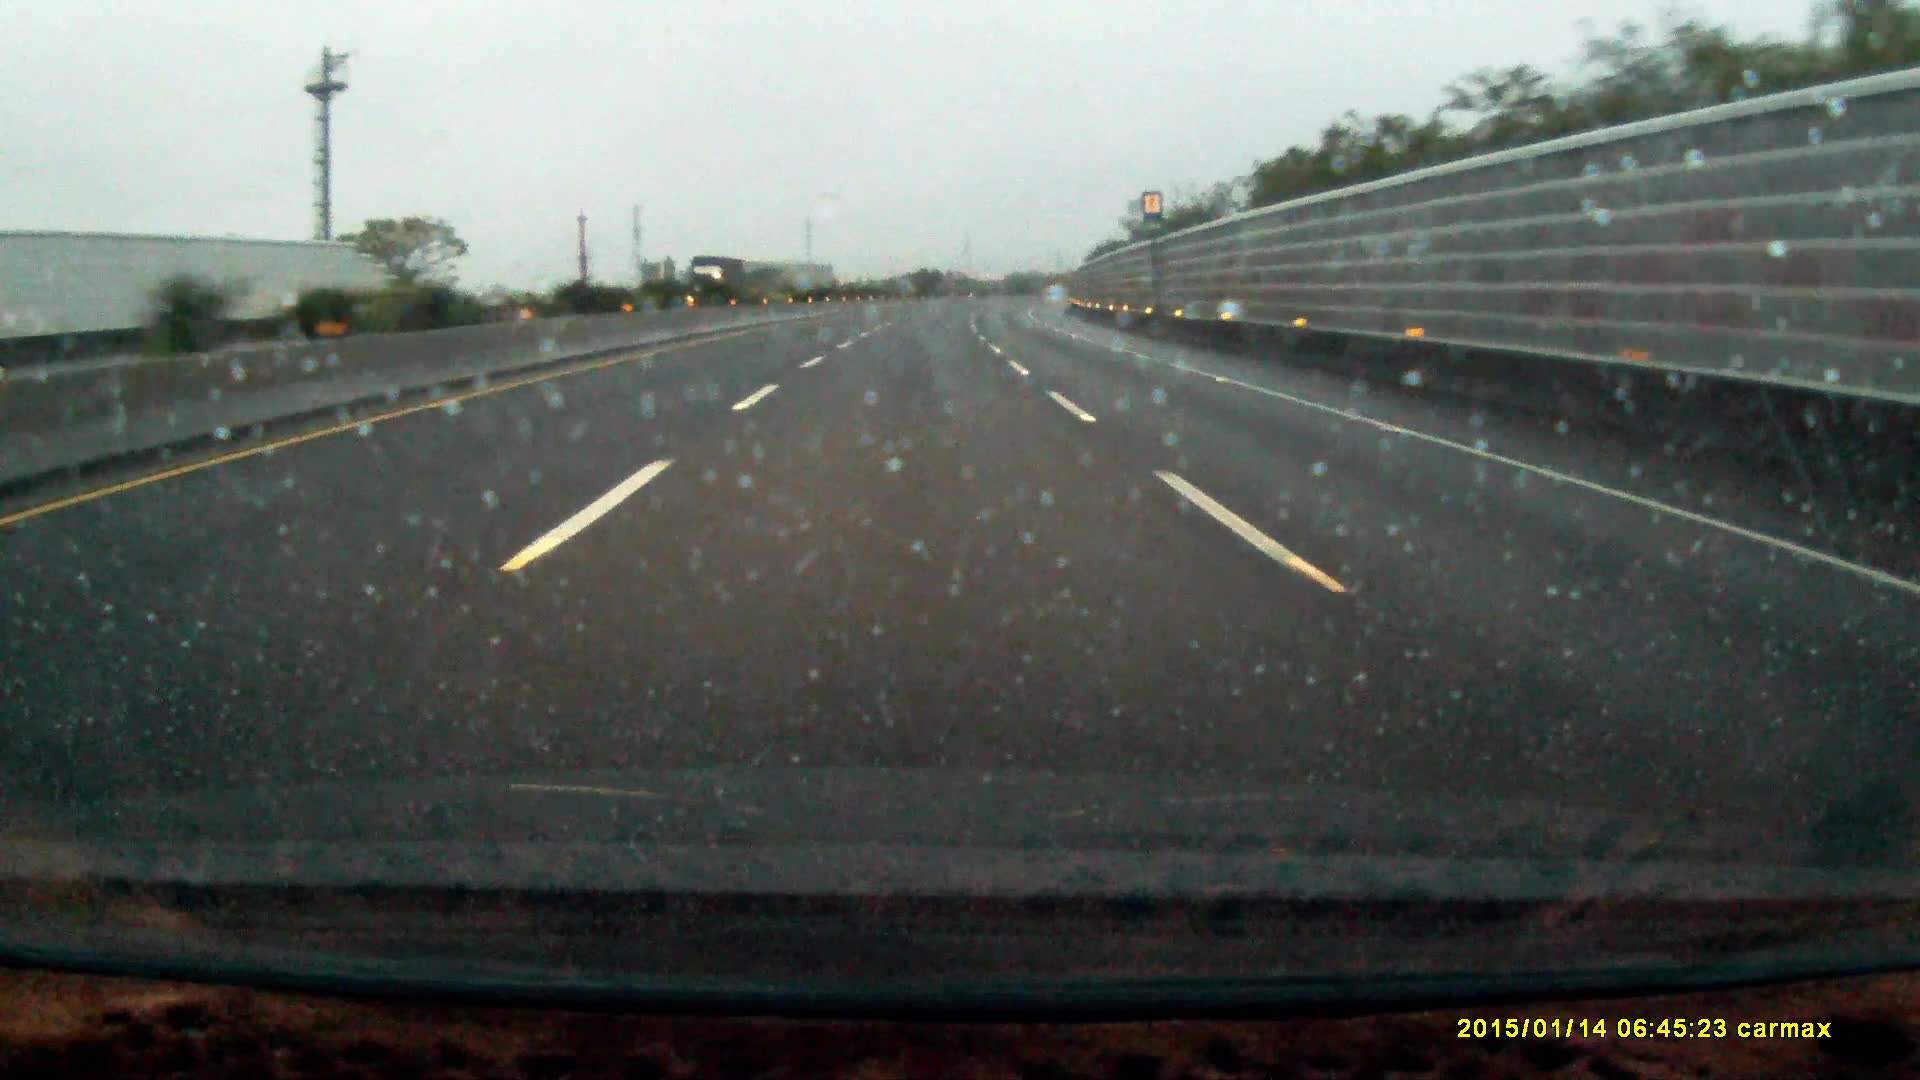vehicle: (690, 255, 745, 301)
